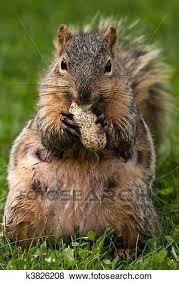Ardilla: (17, 20, 159, 253)
